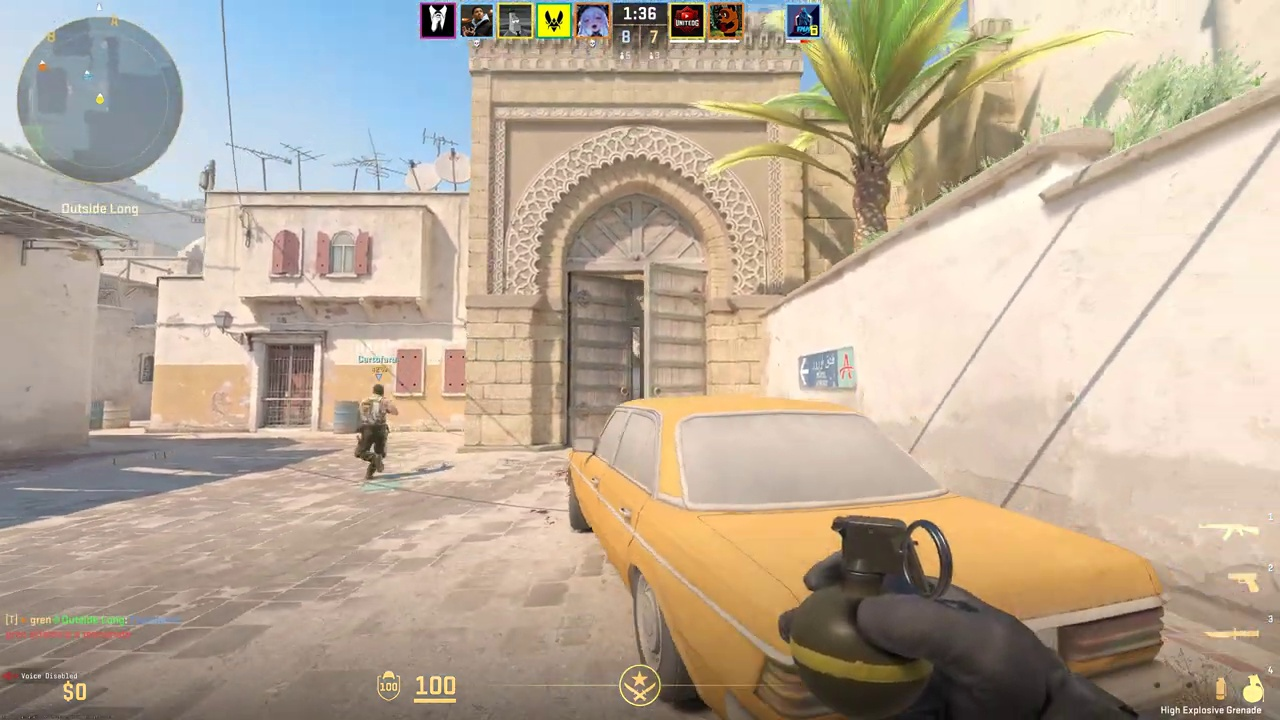Terrorist: (355, 384, 392, 477)
